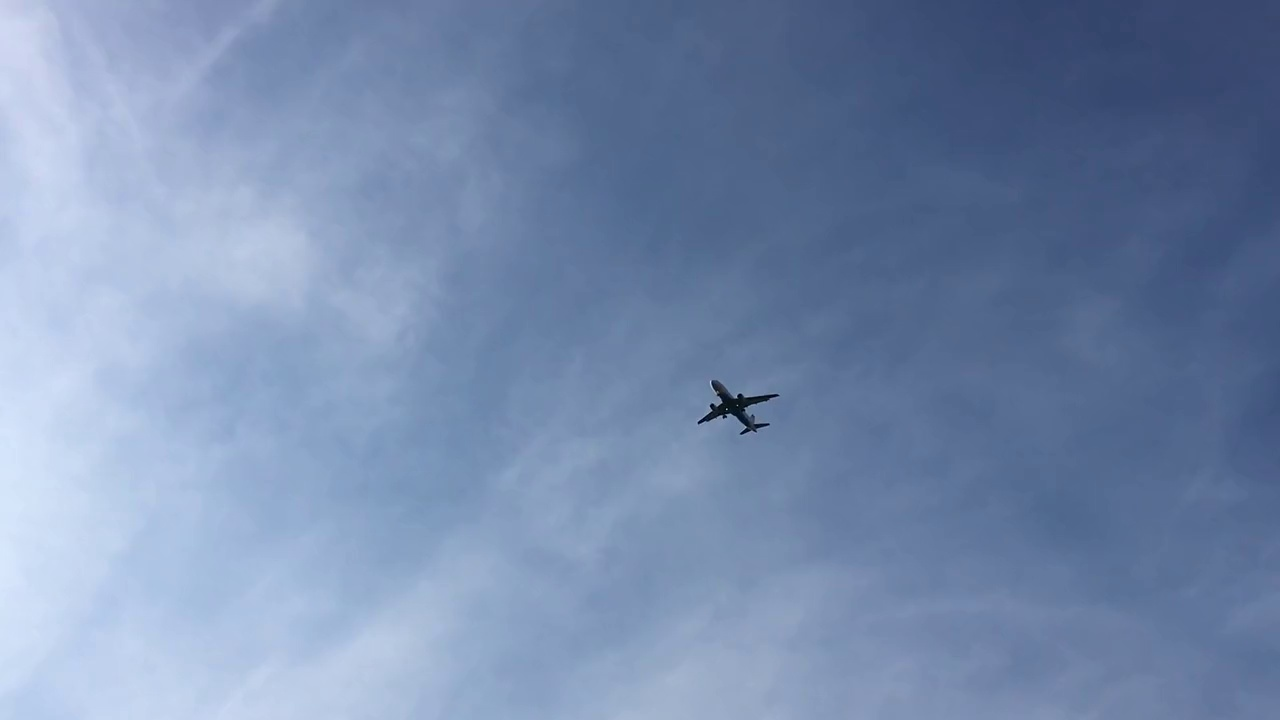plane: (695, 377, 779, 434)
